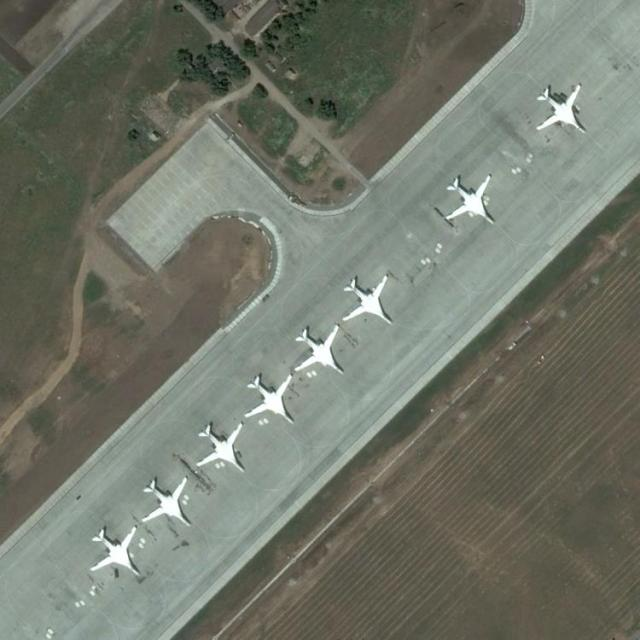fighter jet: (343, 270, 405, 334), (282, 328, 355, 380), (531, 81, 595, 138), (437, 174, 507, 226), (184, 424, 254, 475), (90, 521, 148, 579), (244, 372, 302, 428), (133, 476, 193, 530)
